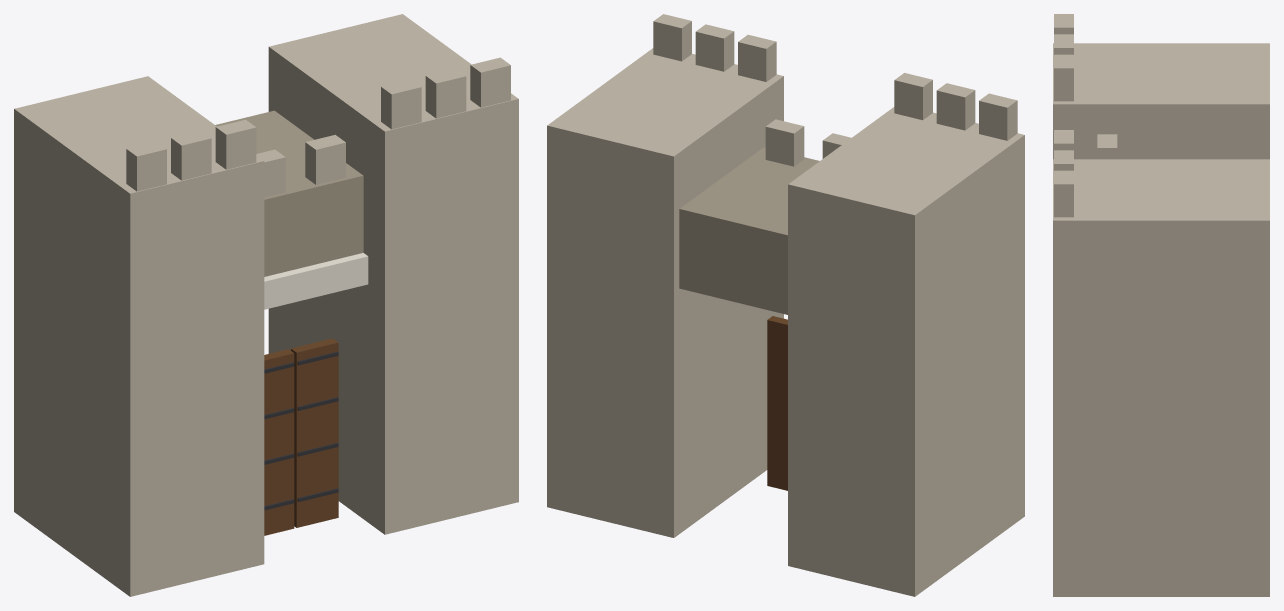
The model's file is gate.glb.
The picture shows the model from 3 angles, left to right: view 1: azimuth 30°, elevation 25°; view 2: azimuth 150°, elevation 25°; view 3: azimuth 270°, elevation 25°; orthographic projection. The views are drawn at different scales.
Visible parts, largest first — view 1: Gate; view 2: Gate; view 3: Gate.
Boxes of the visible parts, x1,y1,x2,y2 form: Gate: (14,14,518,596); Gate: (547,14,1024,596); Gate: (1053,14,1269,596).
Size of the model in its own units: 11.6 by 12.5 by 6.
